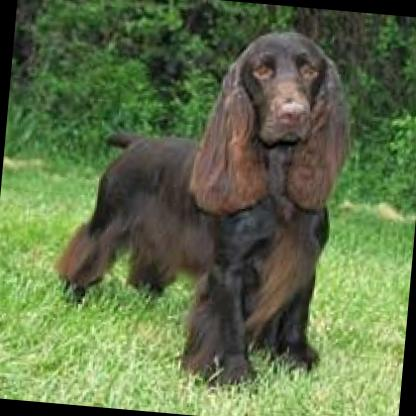Sussex_spaniel: (46, 8, 364, 404)
